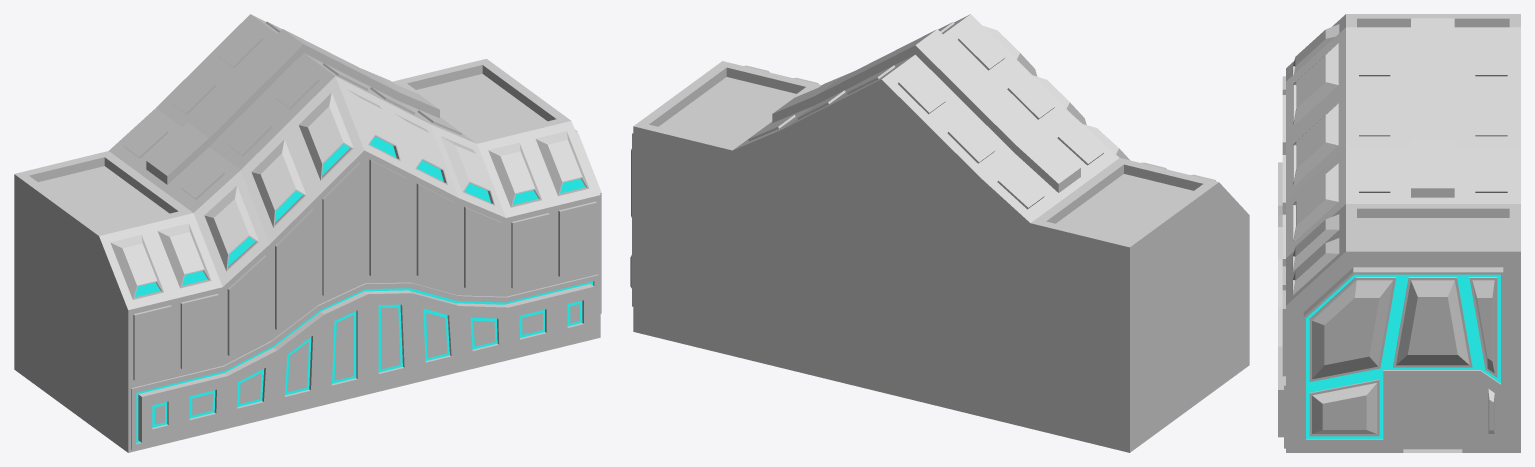
File: building-arch.glb
3 views of the same model, side by side, from view 1: azimuth 30°, elevation 25°; view 2: azimuth 150°, elevation 25°; view 3: azimuth 270°, elevation 25° (orthographic). The views are drawn at different scales.
Parts seen in each view (by area): view 1: Cube.003; view 2: Cube.003; view 3: Cube.003.
Part boxes in pixels (x1,y1,x2,y2): Cube.003: (14, 14, 601, 452); Cube.003: (630, 14, 1249, 452); Cube.003: (1278, 14, 1520, 452).
Bounding box in the file's own units: 32.06 × 19.24 × 13.4.
